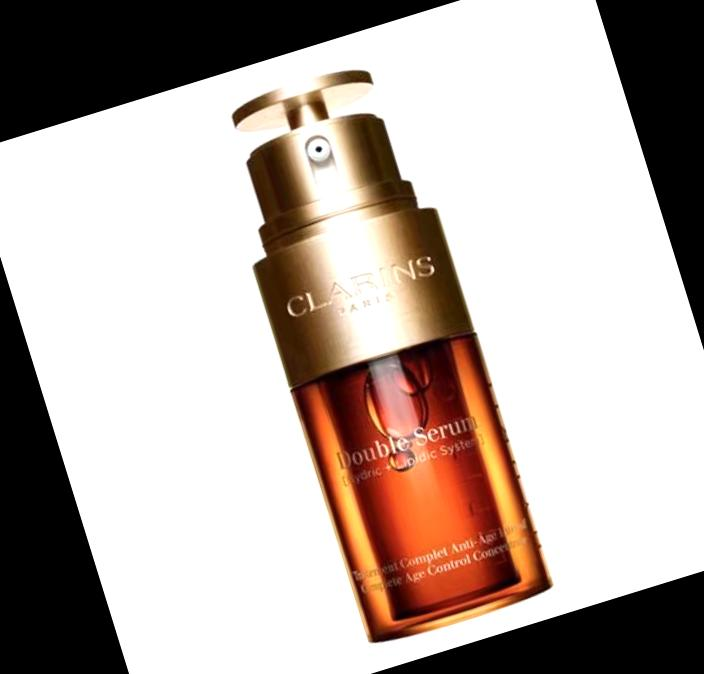cosmetic: (195, 45, 556, 645)
